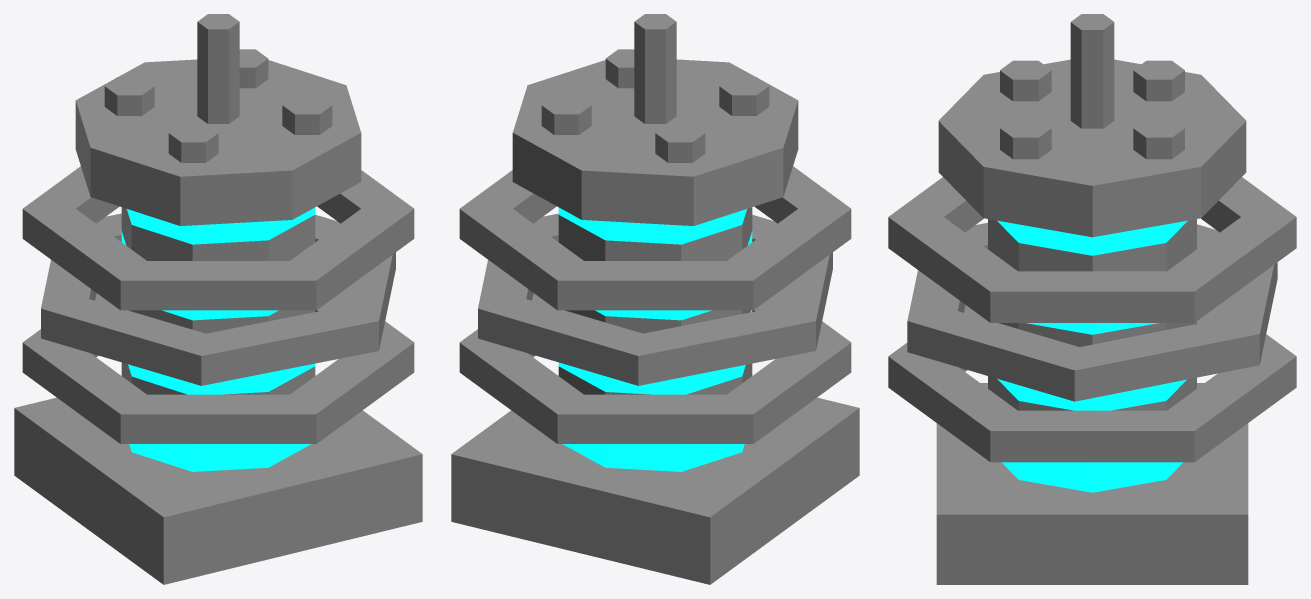
File: Generator.fbx
3 views of the same model, side by side, from view 1: azimuth 30°, elevation 25°; view 2: azimuth 150°, elevation 25°; view 3: azimuth 270°, elevation 25° (orthographic). The views are drawn at different scales.
Parts seen in each view (by area): view 1: Cube.003, Cylinder.002, Cylinder, Cylinder.001; view 2: Cube.003, Cylinder.002, Cylinder, Cylinder.001; view 3: Cube.003, Cylinder.002, Cylinder, Cylinder.001.
Part boxes in pixels (x1,y1,x2,y2): Cube.003: [14, 59, 422, 584]; Cylinder.002: [22, 166, 414, 443]; Cylinder: [104, 49, 332, 162]; Cylinder.001: [197, 14, 239, 123]; Cube.003: [451, 59, 859, 584]; Cylinder.002: [459, 166, 851, 443]; Cylinder: [541, 49, 769, 162]; Cylinder.001: [634, 14, 676, 123]; Cube.003: [936, 59, 1248, 584]; Cylinder.002: [888, 177, 1296, 462]; Cylinder: [1000, 60, 1184, 159]; Cylinder.001: [1070, 14, 1114, 128].
Bounding box in the file's own units: 261 × 352 × 262.
